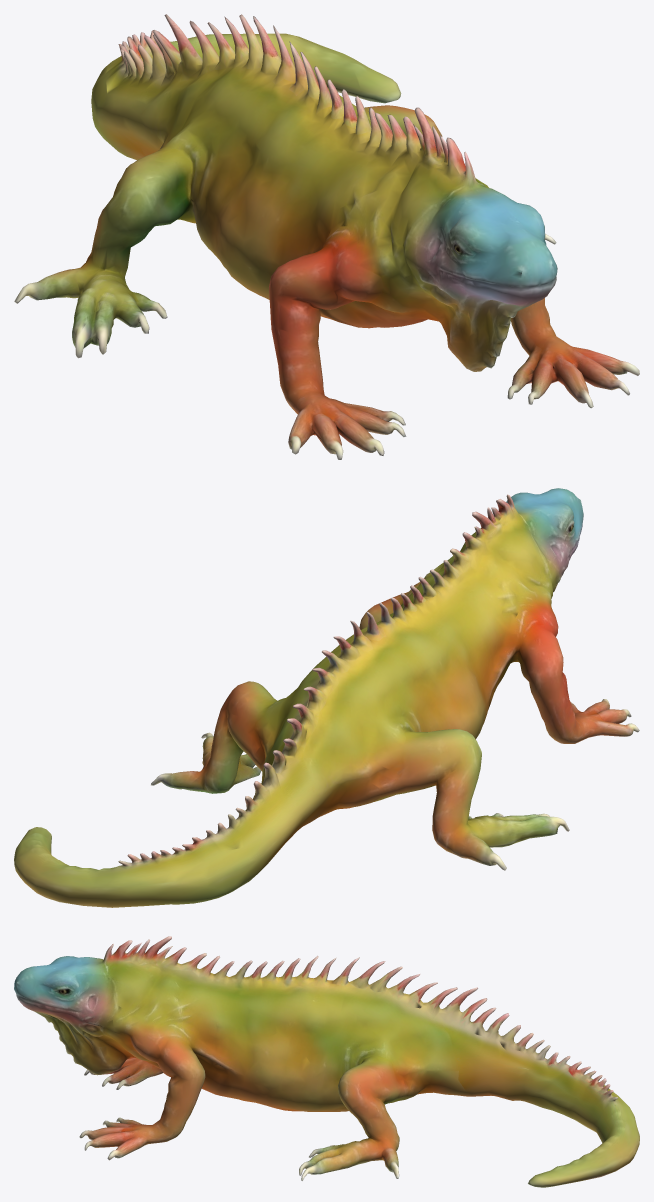
The model's file is MZ4250 - Lizard.glb.
3 views of the same model, one above another, from view 1: azimuth 30°, elevation 25°; view 2: azimuth 150°, elevation 25°; view 3: azimuth 270°, elevation 25° (orthographic). The views are drawn at different scales.
Parts seen in each view (by area): view 1: Iguana t.001; view 2: Iguana t.001; view 3: Iguana t.001.
Boxes of the visible parts, bbox=[...] form: Iguana t.001: bbox=[14, 14, 639, 459]; Iguana t.001: bbox=[14, 488, 639, 907]; Iguana t.001: bbox=[14, 936, 639, 1187].
Size of the model in its own units: 10.09 by 5.24 by 17.23.
Materials: 1 (1 with a texture image).
